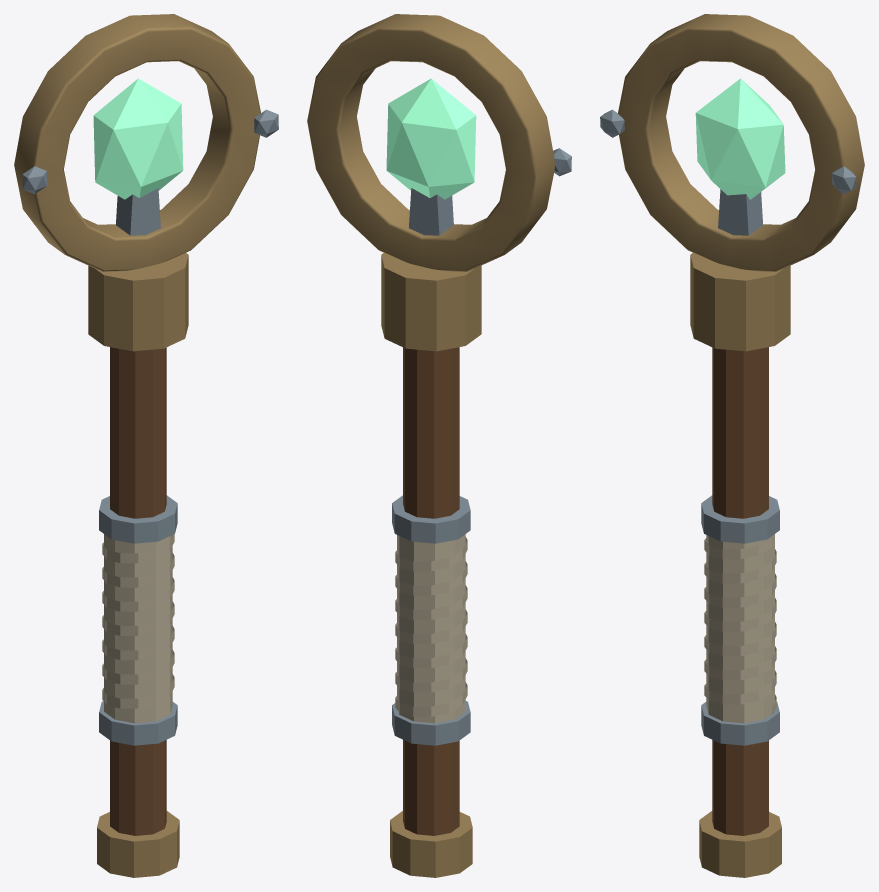
File: Crownless_Acolyte_Scepter.fbx
3 views of the same model, side by side, from view 1: azimuth 30°, elevation 25°; view 2: azimuth 150°, elevation 25°; view 3: azimuth 330°, elevation 25° (orthographic).
Visible parts, largest first — view 1: Scepter | open restoration halo, Scepter | ash handle, Scepter | green restoration stone, Scepter | head socket, Scepter | linen grip, Scepter | linen binding, Scepter | butt cap, Scepter | upper ferrule, Scepter | lower ferrule, Scepter | stone mount, Scepter | ring rivet, Scepter | ring rivet.001; view 2: Scepter | open restoration halo, Scepter | ash handle, Scepter | green restoration stone, Scepter | head socket, Scepter | linen grip, Scepter | linen binding, Scepter | butt cap, Scepter | upper ferrule, Scepter | lower ferrule, Scepter | stone mount; view 3: Scepter | open restoration halo, Scepter | ash handle, Scepter | head socket, Scepter | green restoration stone, Scepter | linen grip, Scepter | linen binding, Scepter | butt cap, Scepter | upper ferrule, Scepter | lower ferrule, Scepter | stone mount, Scepter | ring rivet.001.
Part boxes in pixels (x1=…): Scepter | open restoration halo: x1=14, y1=14, x2=260, y2=271; Scepter | ash handle: x1=110, y1=347, x2=166, y2=835; Scepter | green restoration stone: x1=93, y1=78, x2=183, y2=199; Scepter | head socket: x1=88, y1=253, x2=188, y2=351; Scepter | linen grip: x1=104, y1=534, x2=172, y2=723; Scepter | linen binding: x1=102, y1=534, x2=174, y2=708; Scepter | butt cap: x1=97, y1=811, x2=179, y2=877; Scepter | upper ferrule: x1=99, y1=495, x2=177, y2=543; Scepter | lower ferrule: x1=99, y1=701, x2=177, y2=745; Scepter | stone mount: x1=116, y1=188, x2=160, y2=235; Scepter | ring rivet: x1=22, y1=166, x2=47, y2=194; Scepter | ring rivet.001: x1=254, y1=109, x2=278, y2=137; Scepter | open restoration halo: x1=307, y1=14, x2=555, y2=271; Scepter | ash handle: x1=403, y1=347, x2=459, y2=835; Scepter | green restoration stone: x1=386, y1=78, x2=476, y2=199; Scepter | head socket: x1=381, y1=253, x2=481, y2=351; Scepter | linen grip: x1=397, y1=534, x2=465, y2=723; Scepter | linen binding: x1=395, y1=537, x2=467, y2=716; Scepter | butt cap: x1=390, y1=811, x2=472, y2=877; Scepter | upper ferrule: x1=392, y1=495, x2=470, y2=543; Scepter | lower ferrule: x1=392, y1=701, x2=470, y2=745; Scepter | stone mount: x1=409, y1=188, x2=453, y2=235; Scepter | open restoration halo: x1=618, y1=14, x2=864, y2=271; Scepter | ash handle: x1=712, y1=347, x2=768, y2=835; Scepter | head socket: x1=690, y1=253, x2=790, y2=351; Scepter | green restoration stone: x1=695, y1=78, x2=785, y2=199; Scepter | linen grip: x1=706, y1=534, x2=774, y2=723; Scepter | linen binding: x1=704, y1=537, x2=776, y2=715; Scepter | butt cap: x1=699, y1=811, x2=781, y2=877; Scepter | upper ferrule: x1=701, y1=495, x2=779, y2=543; Scepter | lower ferrule: x1=701, y1=702, x2=779, y2=745; Scepter | stone mount: x1=718, y1=189, x2=762, y2=235; Scepter | ring rivet.001: x1=831, y1=166, x2=856, y2=194.
Size of the model in its own units: 133 by 415 by 46.
